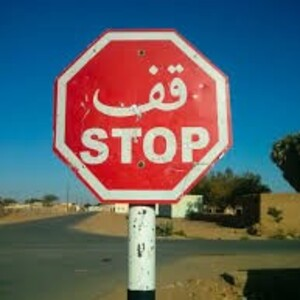stop: (53, 27, 231, 208)
